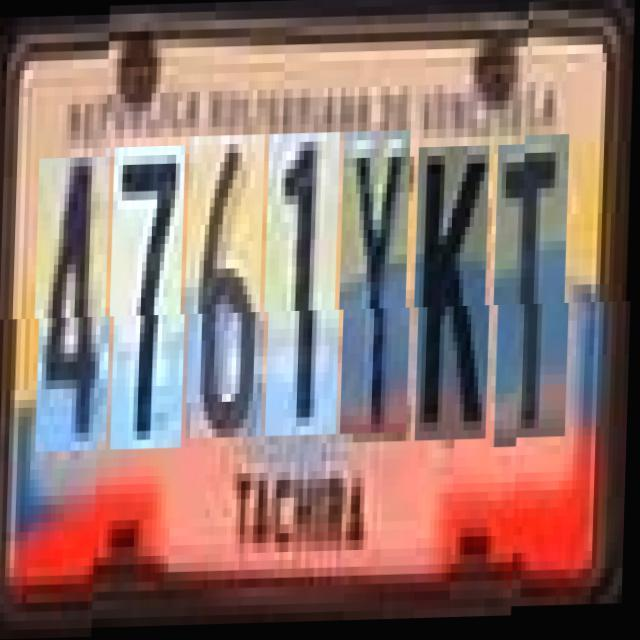1: (268, 134, 346, 438)
4: (38, 148, 116, 444)
6: (188, 136, 270, 440)
7: (113, 147, 191, 450)
K: (418, 148, 495, 443)
T: (497, 147, 575, 450)
Y: (342, 132, 416, 436)
